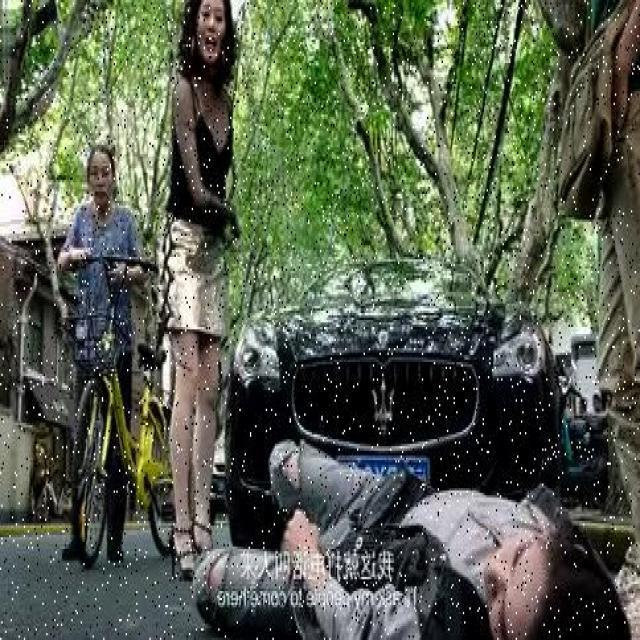fall: (196, 439, 615, 635)
